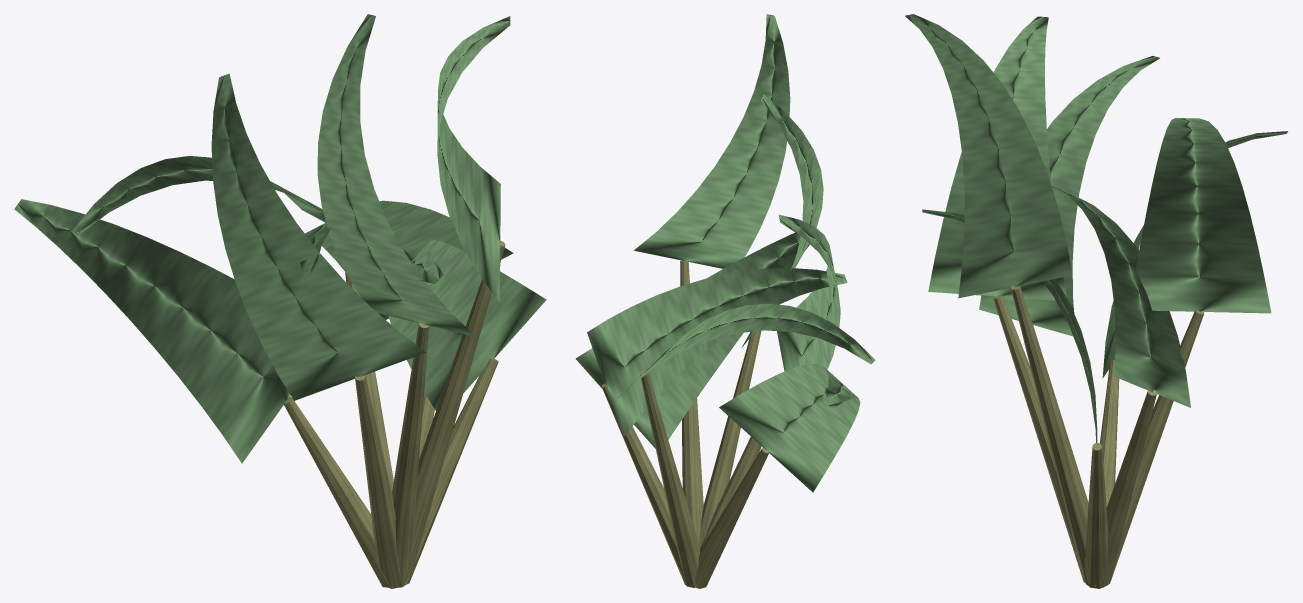
File: arrowhead_clump_swamp_and_mangrove_22631.glb
The picture shows the model from 3 angles, left to right: view 1: azimuth 30°, elevation 25°; view 2: azimuth 150°, elevation 25°; view 3: azimuth 270°, elevation 25°; orthographic projection. The views are drawn at different scales.
Visible parts, largest first — view 1: arrowhead; view 2: arrowhead; view 3: arrowhead.
Part boxes in pixels (left/top/right/bottom): arrowhead: left=14, top=14, right=546, bottom=588; arrowhead: left=575, top=14, right=875, bottom=588; arrowhead: left=905, top=14, right=1288, bottom=588.
Size of the model in its own units: 1.08 by 1.54 by 0.9326.
2 materials, 2 textured.
